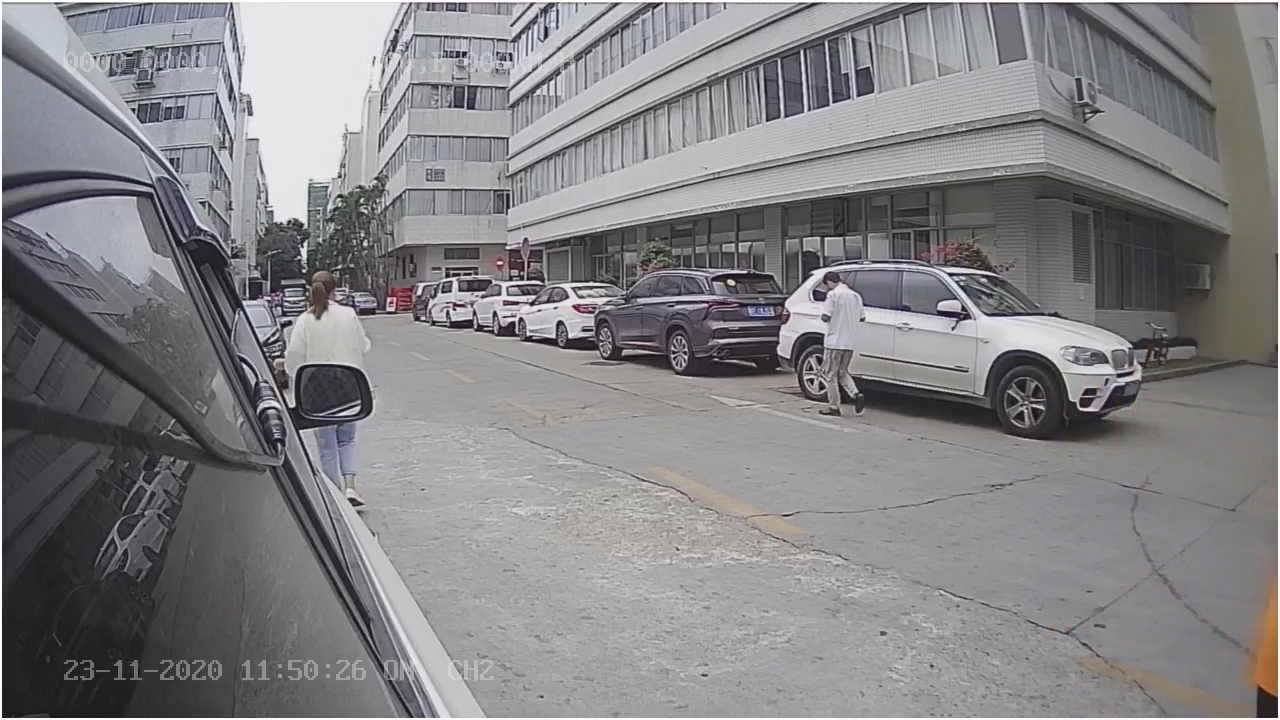person: (812, 269, 871, 420), (282, 266, 373, 363)
